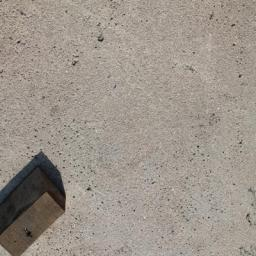FOD: (1, 152, 70, 256)
